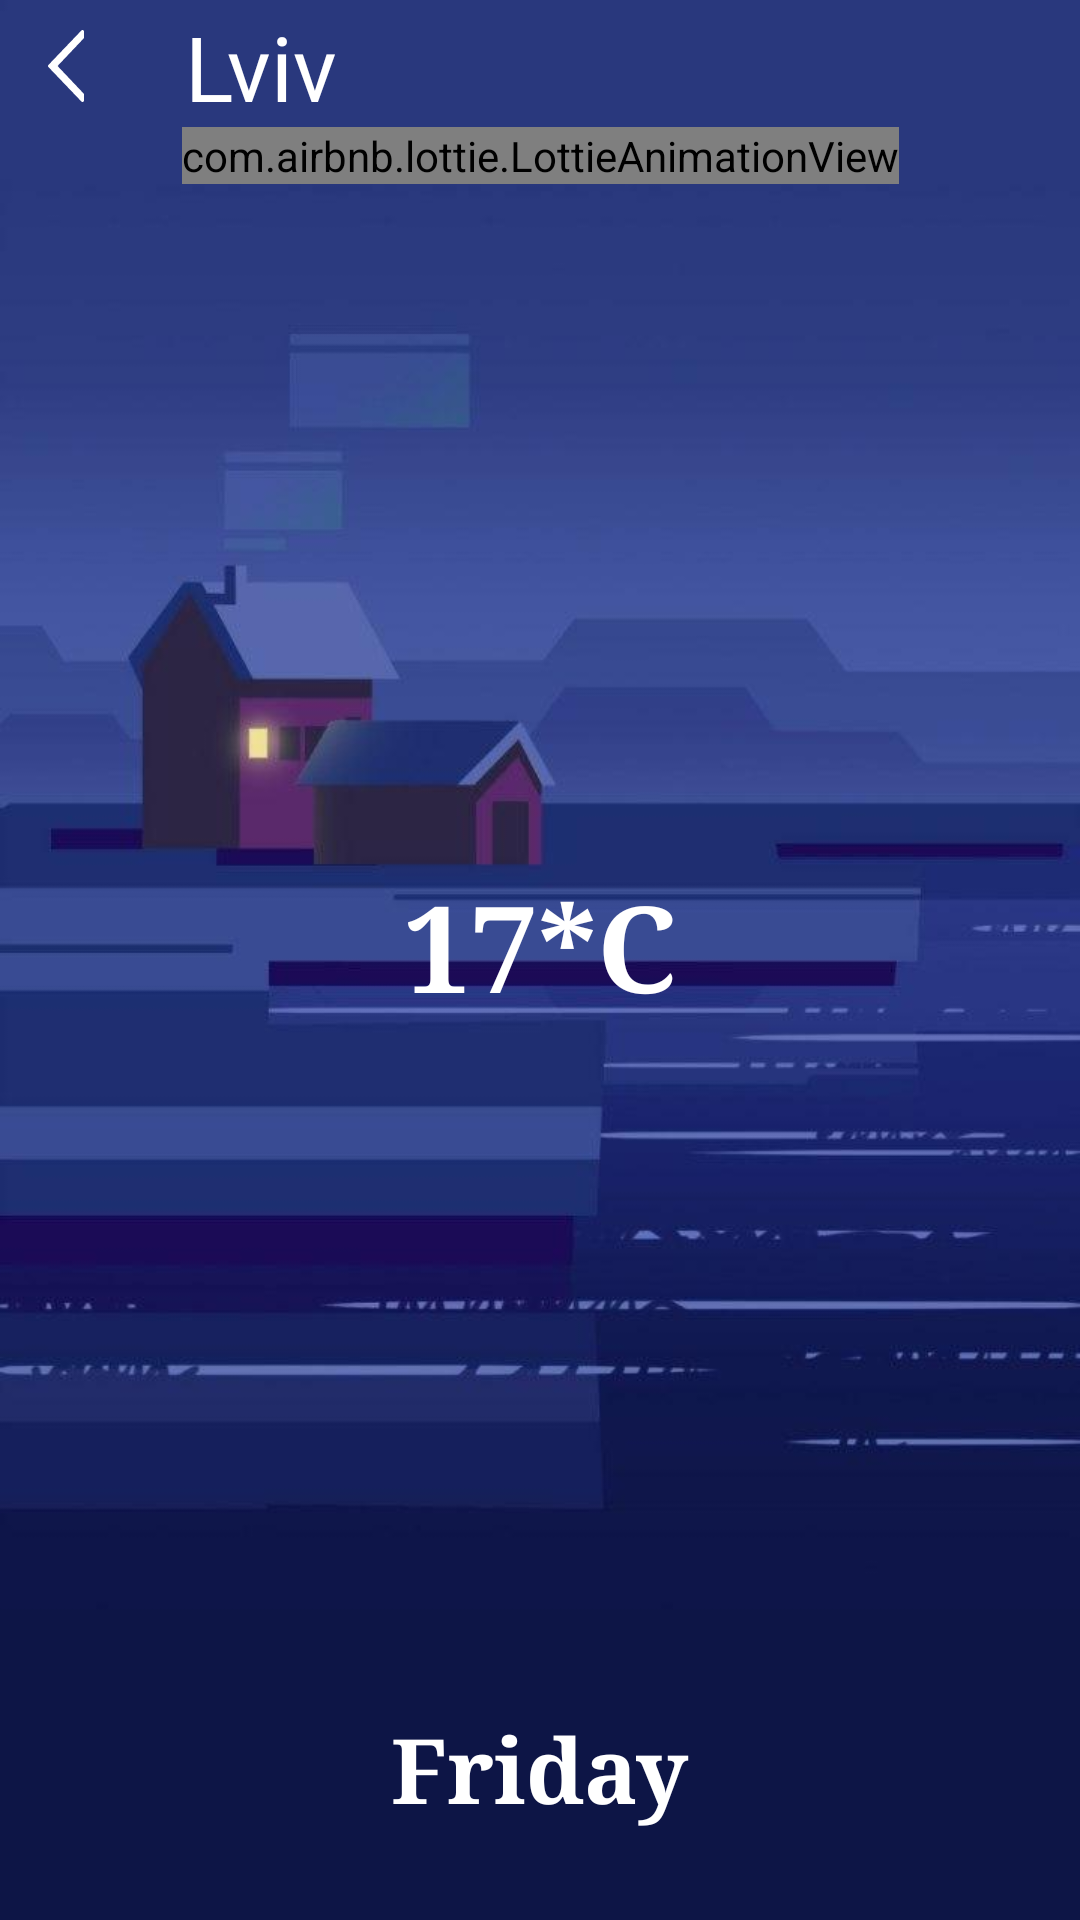

Named icons in this screenshot (1080 x 1920) and their bounding boxes, (left=x1, top=y1, right=x2, bottom=y2):
back: (left=48, top=30, right=84, bottom=102)
